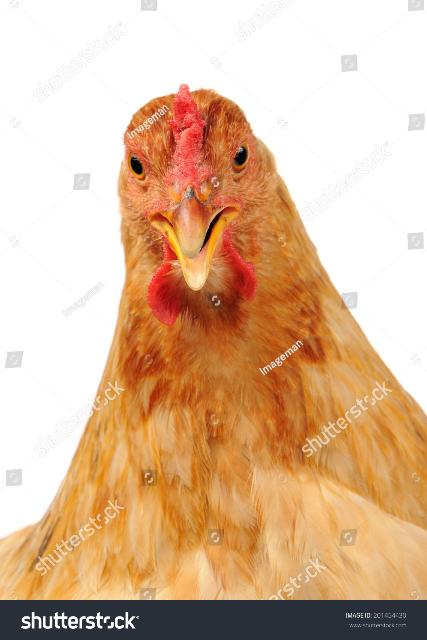Chicken: (0, 82, 427, 598)
